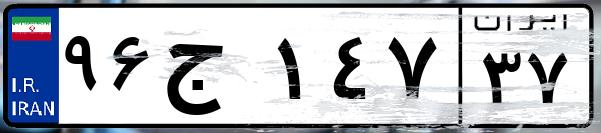1: (270, 28, 330, 110)
3: (475, 38, 525, 113)
4: (330, 28, 385, 110)
6: (110, 28, 158, 98)
7: (385, 28, 445, 110), (525, 38, 570, 115)
9: (57, 26, 110, 100)
ج: (158, 20, 270, 120)
